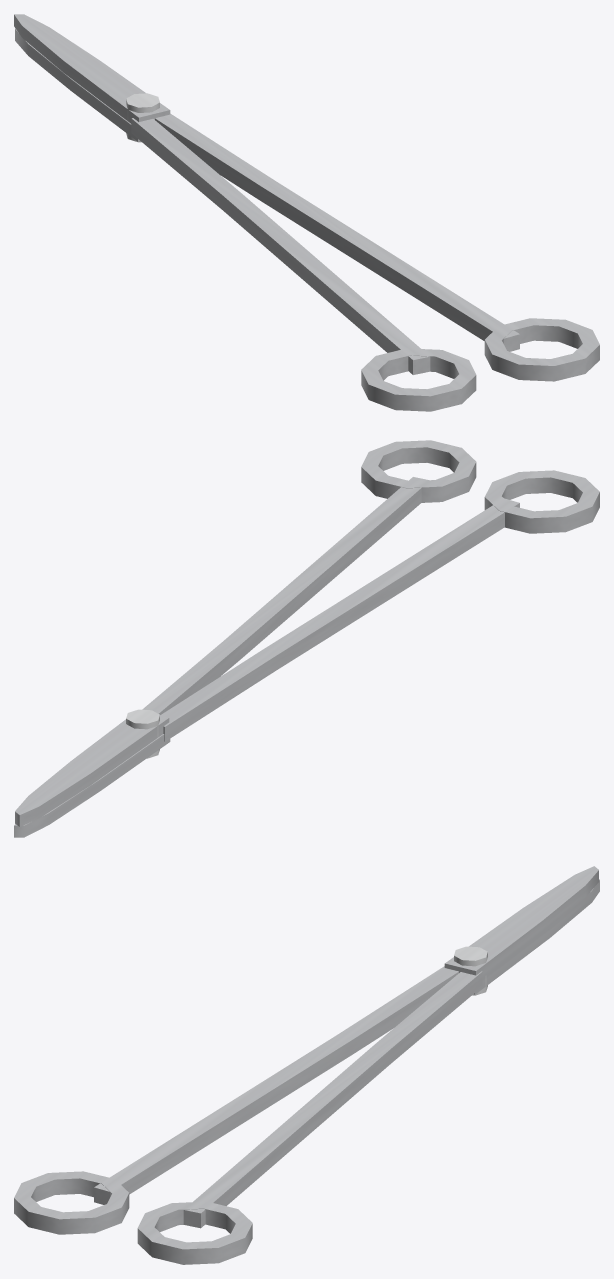
The model's file is s3_metzenbaum_scissors.glb.
3 renders of one model, top to bottom at view 1: azimuth 30°, elevation 25°; view 2: azimuth 150°, elevation 25°; view 3: azimuth 330°, elevation 25°, orthographic.
Visible parts, largest first — view 1: s3_metzenbaum_scissors; view 2: s3_metzenbaum_scissors; view 3: s3_metzenbaum_scissors.
Part boxes in pixels (x1,y1,x2,y2): s3_metzenbaum_scissors: (14, 14, 599, 411); s3_metzenbaum_scissors: (14, 440, 599, 837); s3_metzenbaum_scissors: (14, 866, 599, 1264).
Size of the model in its own units: 0.0471 by 0.007 by 0.179.
1 material, 1 textured.
